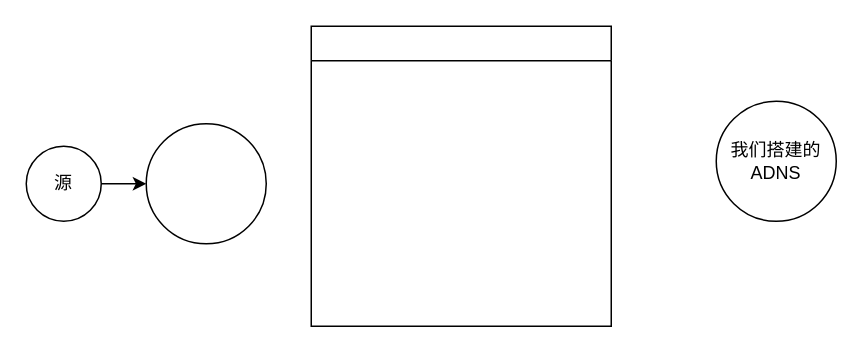
This 863x353 diagram has some shape labels left out. The shapes that lost their labels are listed below. From the top down, each one's centre as x and y in pixels, then its label:
point (205, 183): 已发现的 ODNS
point (460, 175): RDNS池
